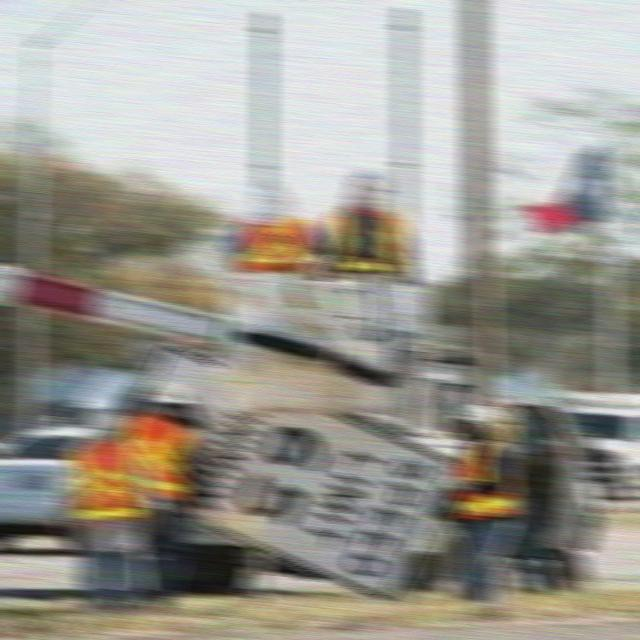speedLimit65: (200, 351, 443, 597)
